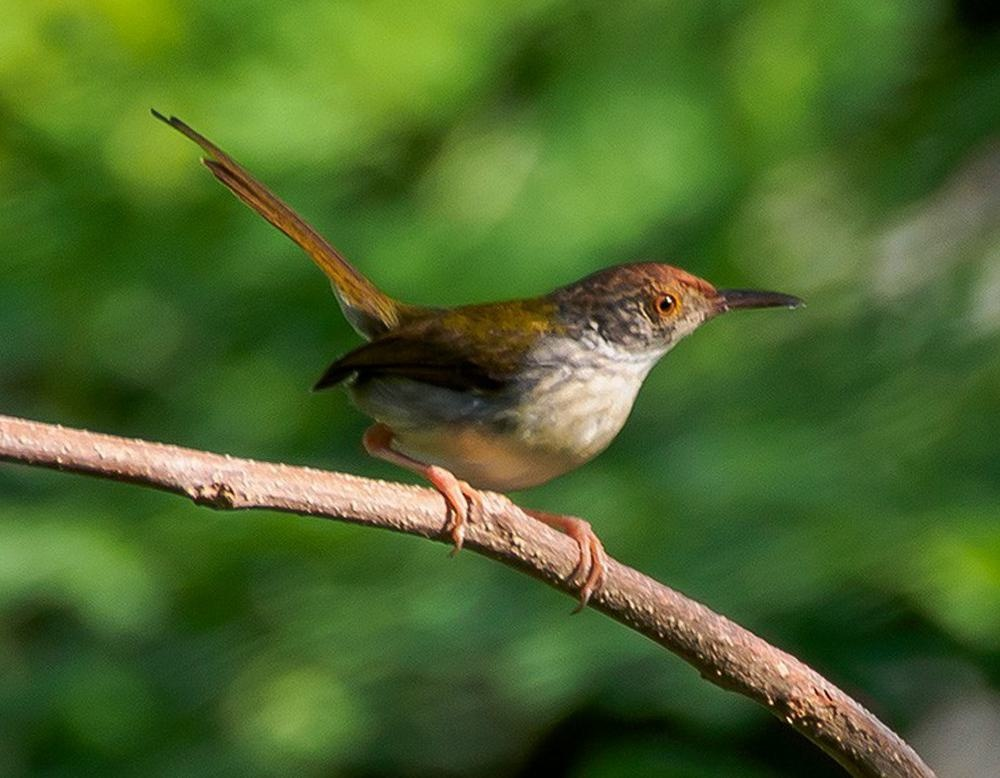tailorbird: (236, 181, 834, 561)
